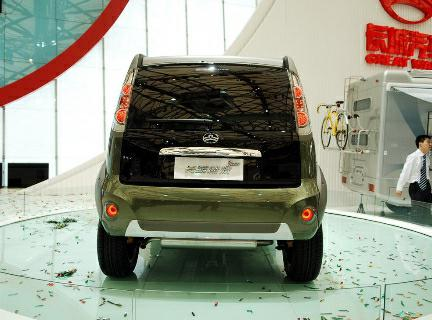长城-M1: (91, 47, 332, 291)
